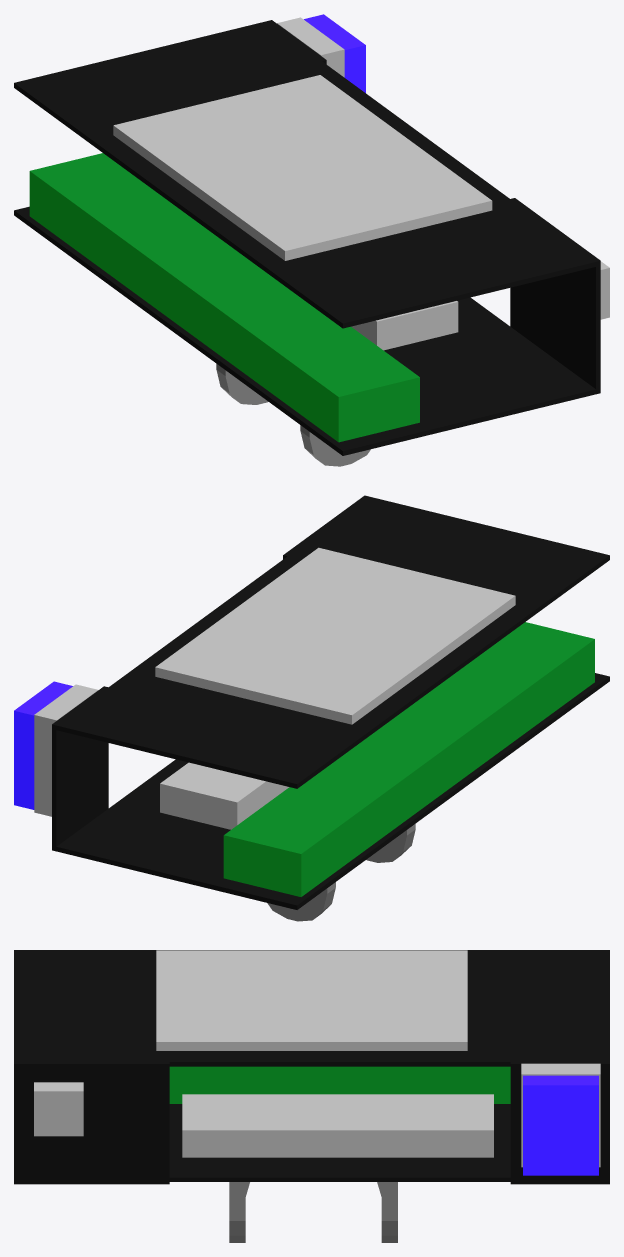
File: platform.dae
3 views of the same model, one above another, from view 1: azimuth 30°, elevation 25°; view 2: azimuth 150°, elevation 25°; view 3: azimuth 270°, elevation 25° (orthographic). The views are drawn at different scales.
Visible parts, largest first — view 1: base_link_001_001_002; view 2: base_link_001_001_002; view 3: base_link_001_001_002.
Part boxes in pixels (x1,y1,x2,y2): base_link_001_001_002: [14, 14, 609, 466]; base_link_001_001_002: [14, 495, 609, 921]; base_link_001_001_002: [14, 950, 609, 1242].
Size of the model in its own units: 0.096 by 0.18 by 0.081.
